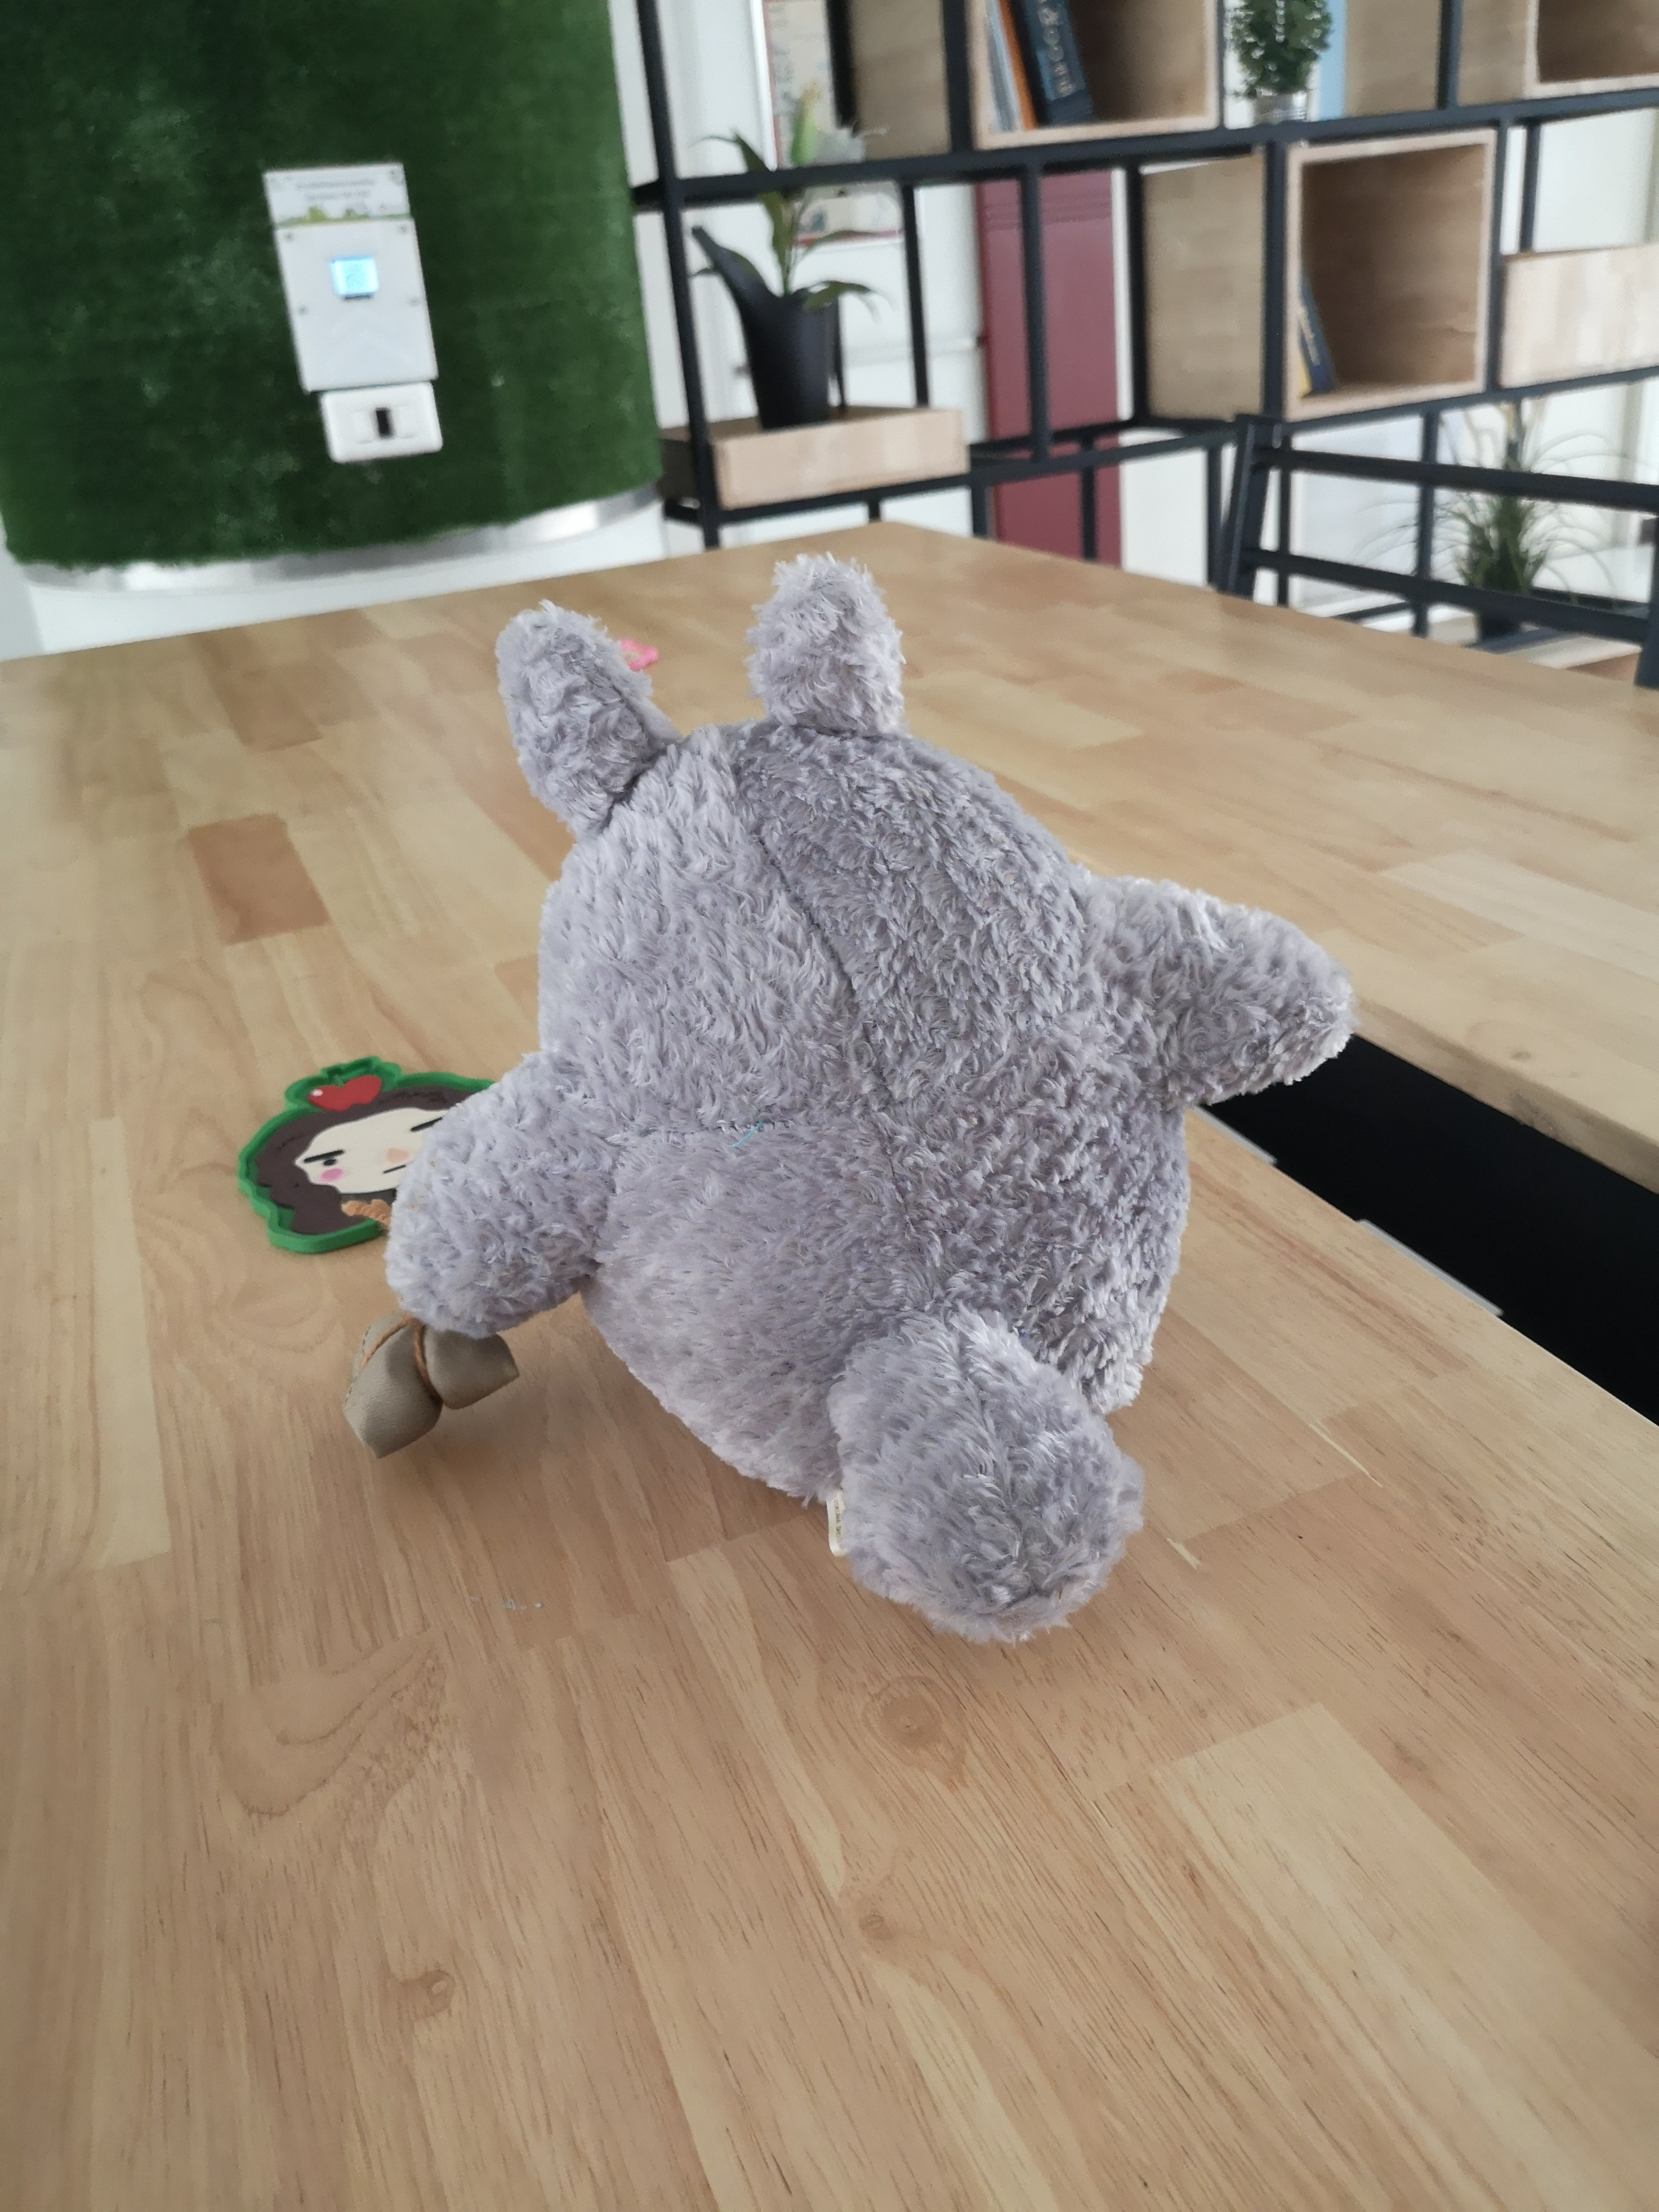totoro: (336, 543, 1354, 1655)
